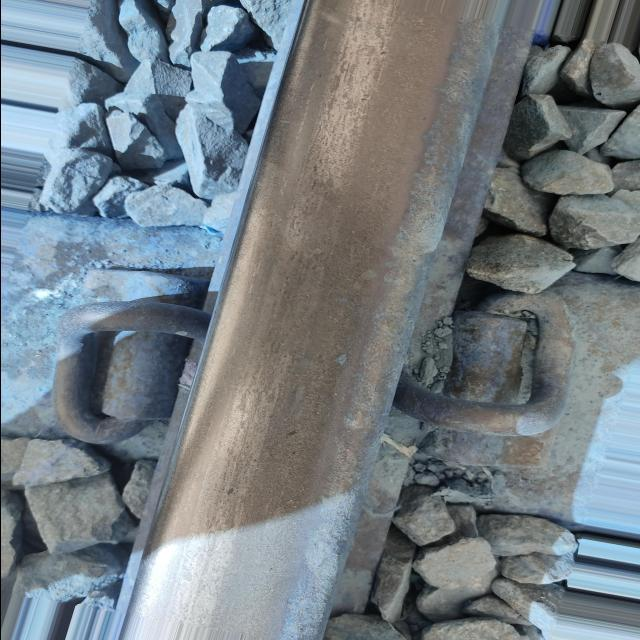squats_high: (328, 351, 350, 368), (284, 428, 299, 438), (223, 487, 237, 497)
